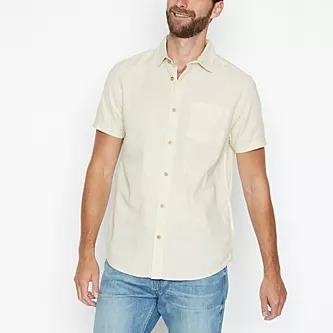S_shirt: (91, 41, 268, 283)
